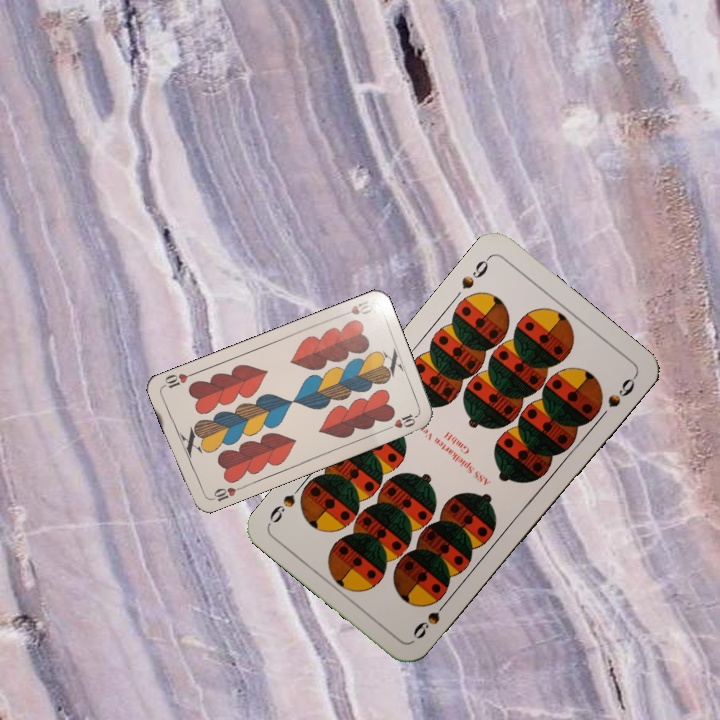H10: (336, 295, 375, 319), (205, 483, 244, 504)
S9: (409, 594, 453, 642), (457, 252, 494, 292)
